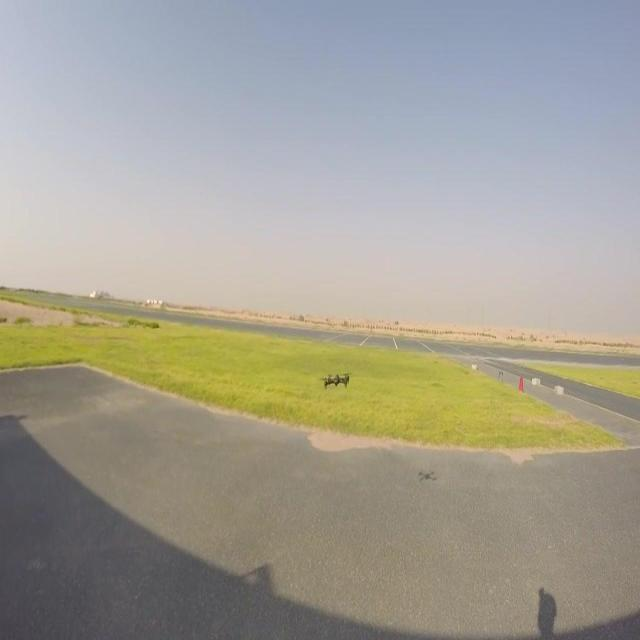drone: (320, 371, 353, 391)
